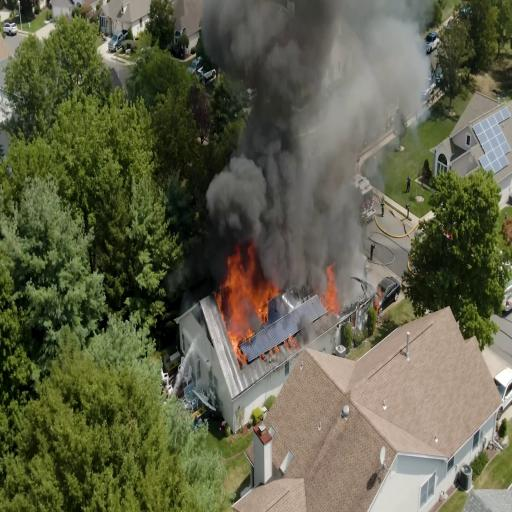fire: (210, 249, 291, 353), (317, 278, 337, 316)
smoke: (248, 23, 340, 245), (312, 27, 356, 246)
